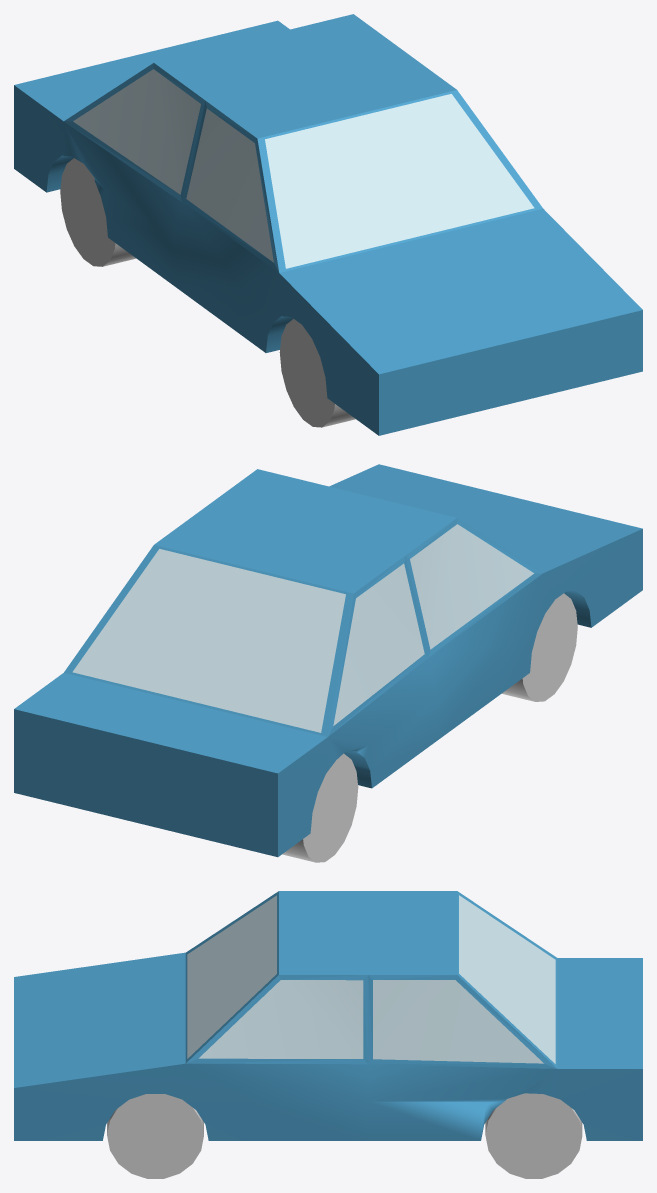
File: Car.FBX
3 views of the same model, one above another, from view 1: azimuth 30°, elevation 25°; view 2: azimuth 150°, elevation 25°; view 3: azimuth 270°, elevation 25° (orthographic). The views are drawn at different scales.
Visible parts, largest first — view 1: Cylinder002, Cylinder006, Cylinder003; view 2: Cylinder002, Cylinder003, Cylinder006; view 3: Cylinder002, Cylinder005, Cylinder004.
Part boxes in pixels (bbox=[...]): Cylinder002: bbox=[14, 14, 642, 435]; Cylinder006: bbox=[60, 158, 136, 266]; Cylinder003: bbox=[279, 319, 355, 427]; Cylinder002: bbox=[14, 464, 642, 857]; Cylinder003: bbox=[502, 593, 577, 701]; Cylinder006: bbox=[282, 753, 358, 862]; Cylinder002: bbox=[14, 891, 642, 1140]; Cylinder005: bbox=[485, 1093, 582, 1178]; Cylinder004: bbox=[107, 1094, 203, 1178].
Bounding box in the file's own units: 22.61 × 18.54 × 53.96.
